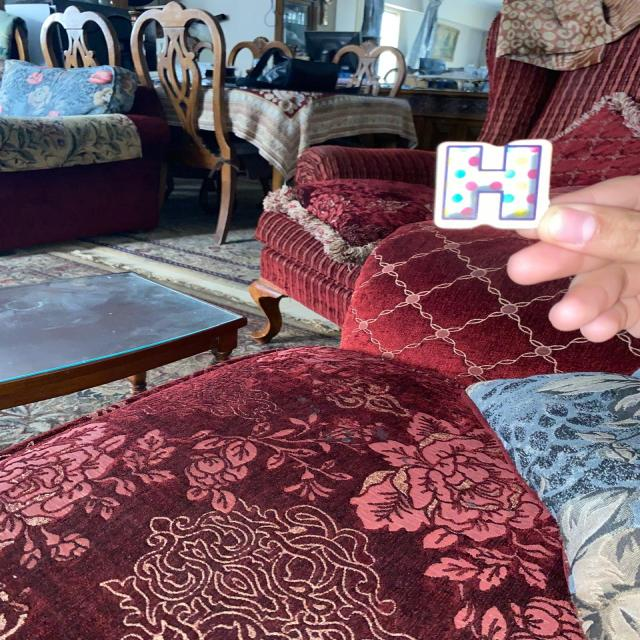H: (433, 139, 552, 228)
